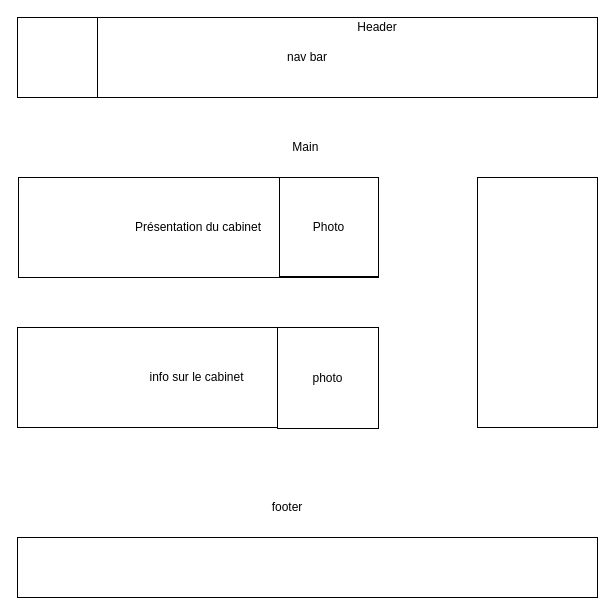
This 615x615 diagram has some shape labels left out. Here are the shapes that lost their labels. From the top down, the centre of each, then its label:
At (57,57): "nom du cabinet".
At (537,302): "aside avec : adresse, telephone mail etc".
At (307,567): "message footer".
